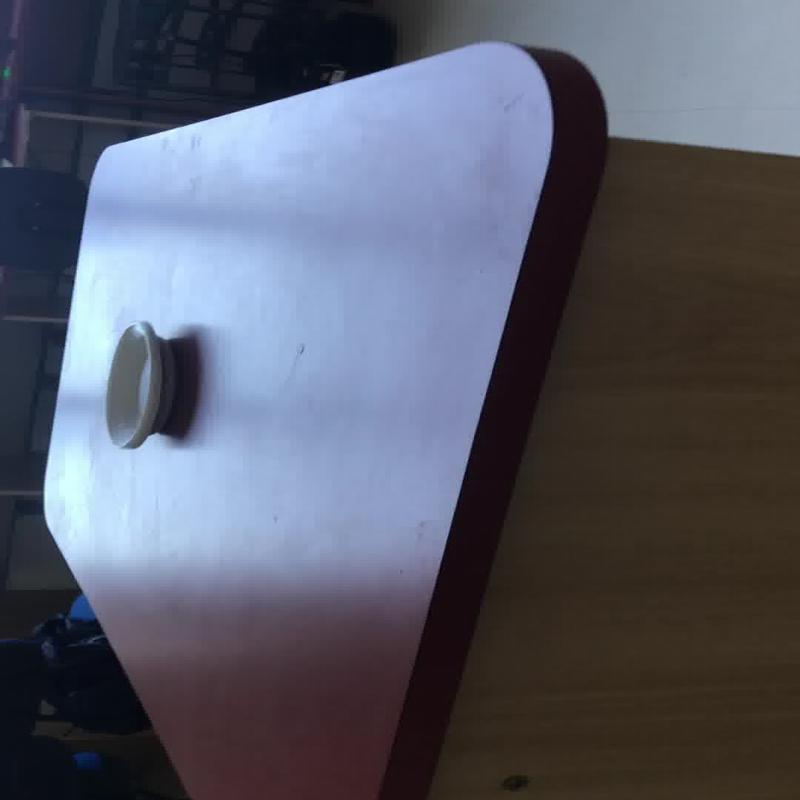plate: (40, 39, 609, 798), (104, 320, 175, 448)
